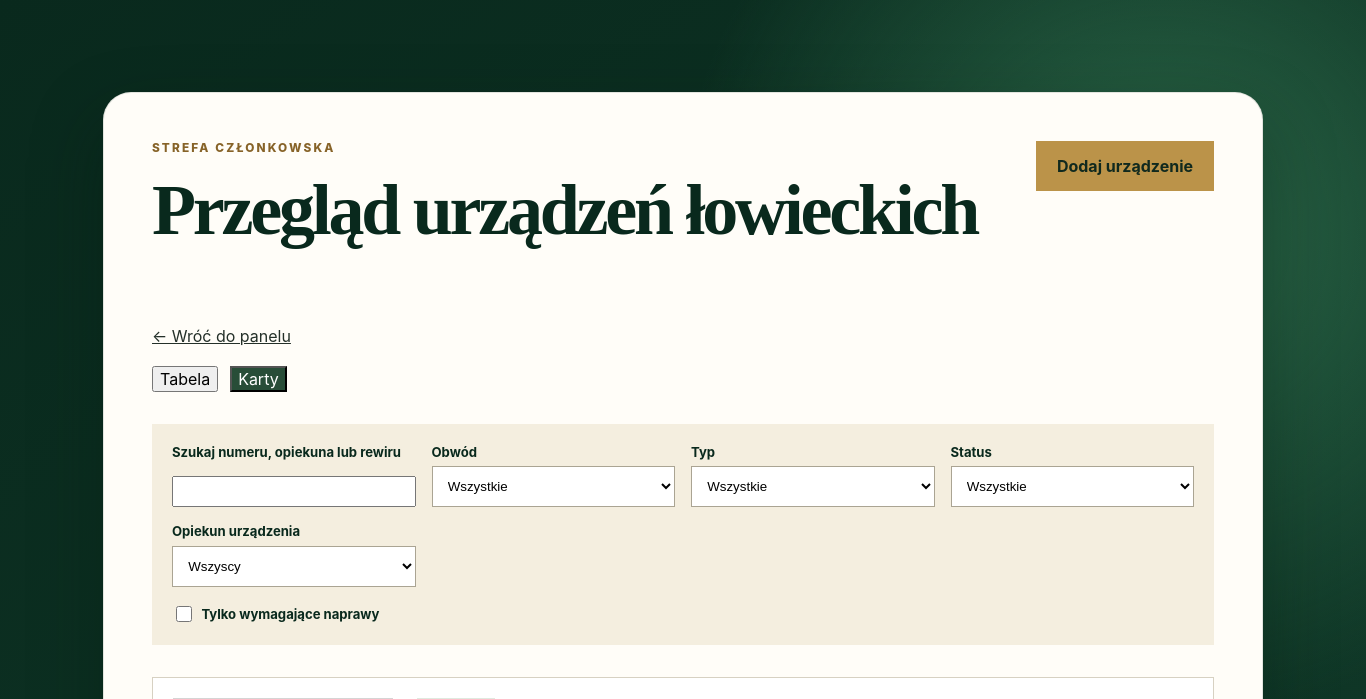
Test case: renders ambona 3 in cards and table, retaining the empty-device placeholder
This screenshot has width=1366, height=699.
Click the button "Tabela".
click(185, 378)  # box [152, 366, 218, 392]
(page scrolled)
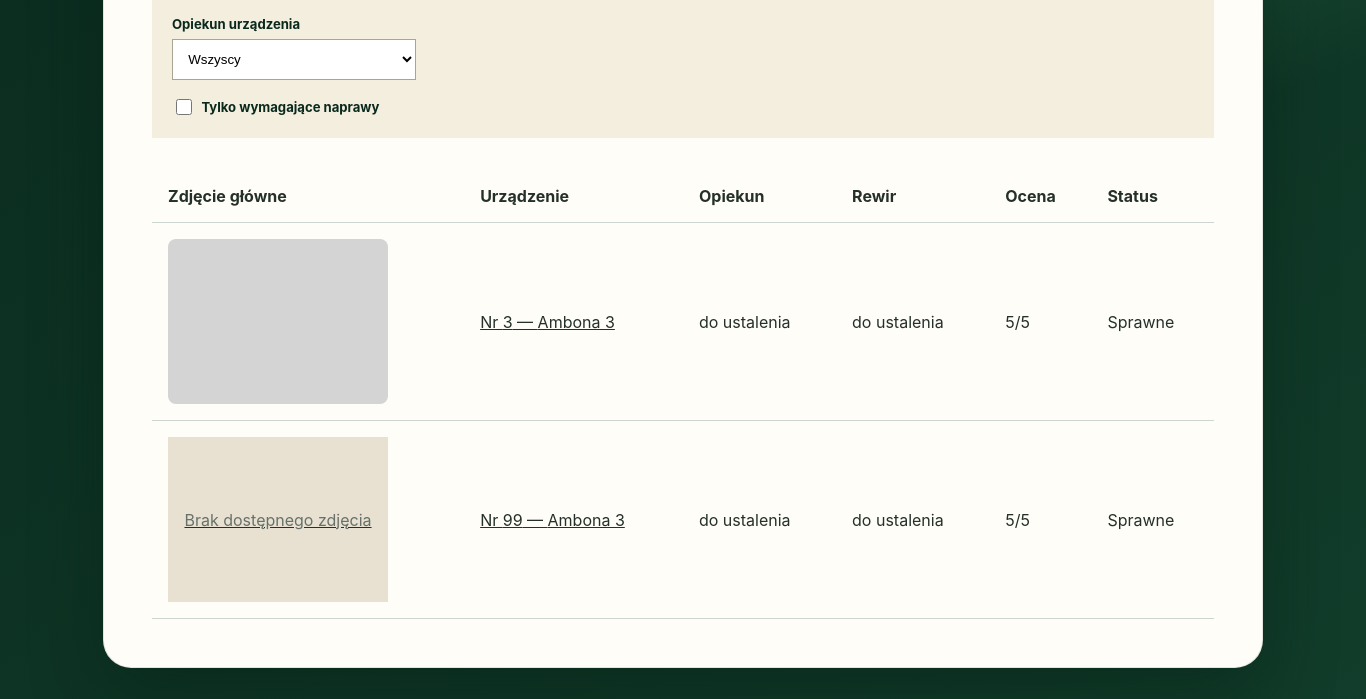
Expected: the text "Brak dostępnego zdjęcia" is shown, [168, 437, 388, 602]
Expected: the table is shown, [152, 170, 1214, 619]
